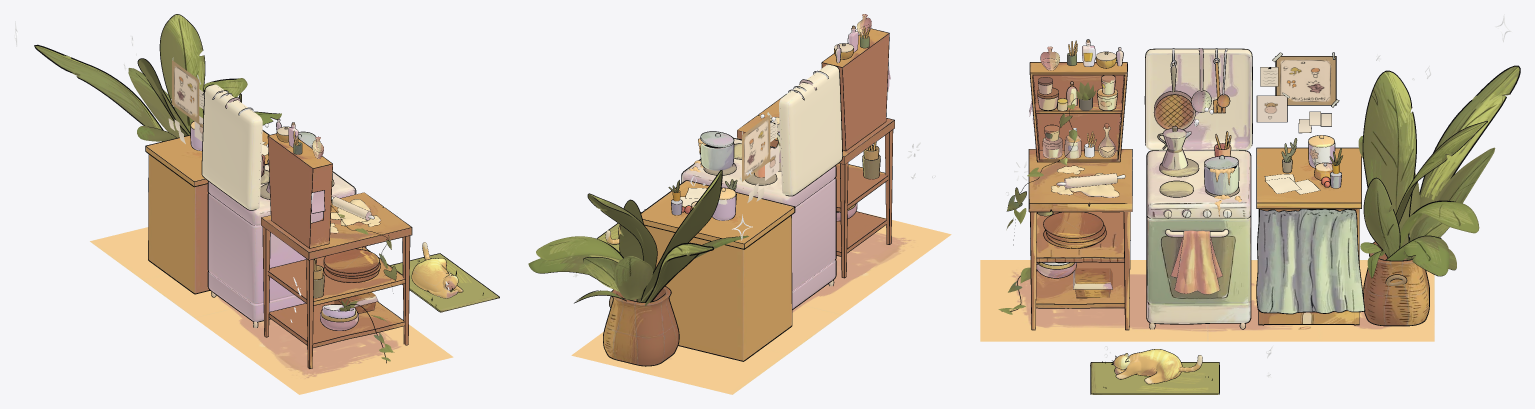
Rendered from room.glb.
The picture shows the model from 3 angles, left to right: view 1: azimuth 30°, elevation 25°; view 2: azimuth 150°, elevation 25°; view 3: azimuth 270°, elevation 25°; orthographic projection. The views are drawn at different scales.
Visible parts, largest first — view 1: Plane.002_212, Cube.064_8, Cube.063_7, Cube.067_10, Cube.076_11, Cube.073_39, Cube.065_9, Plane.006_167, Plane.005_166, Cube.004_17, Cube.077_15, Cube.079_22 (+10 smaller); view 2: Cube.064_8, Plane.002_212, Cube.063_7, Cube.076_11, Cube.078_12, Cube.073_39, Cube.067_10, Plane.004_165, Plane.007_168, Plane.006_167, Cube.079_22, Plane.014_175 (+14 smaller); view 3: Plane.002_212, Cube.063_7, Cube.112_14, Cube.076_11, Cube.064_8, Cube.067_10, Plane.004_165, Cube.073_39, Cube.065_9, Cube.078_12, Plane.005_166, Cube.077_15 (+24 smaller).
Boxes of the visible parts, <box> form: Plane.002_212: <box>90,227,453,394</box>; Cube.064_8: <box>145,130,269,294</box>; Cube.063_7: <box>208,164,355,321</box>; Cube.067_10: <box>263,227,409,368</box>; Cube.076_11: <box>201,84,262,210</box>; Cube.073_39: <box>268,134,332,247</box>; Cube.065_9: <box>261,192,411,259</box>; Plane.006_167: <box>159,14,205,132</box>; Plane.005_166: <box>34,44,163,141</box>; Cube.004_17: <box>262,227,410,368</box>; Cube.077_15: <box>390,254,498,312</box>; Cube.079_22: <box>172,60,199,123</box>; Cube.064_8: <box>641,180,795,361</box>; Plane.002_212: <box>571,211,951,394</box>; Cube.063_7: <box>682,138,835,308</box>; Cube.076_11: <box>779,64,842,196</box>; Cube.078_12: <box>603,286,679,366</box>; Cube.073_39: <box>822,29,889,150</box>; Cube.067_10: <box>836,130,892,277</box>; Plane.004_165: <box>640,170,722,302</box>; Plane.007_168: <box>536,236,623,260</box>; Plane.006_167: <box>587,193,657,271</box>; Cube.079_22: <box>742,115,770,181</box>; Plane.014_175: <box>613,256,652,299</box>; Plane.002_212: <box>980,260,1434,341</box>; Cube.063_7: <box>1147,151,1250,323</box>; Cube.112_14: <box>1256,209,1365,314</box>; Cube.076_11: <box>1144,48,1252,150</box>; Cube.064_8: <box>1256,147,1361,325</box>; Cube.067_10: <box>1030,212,1130,329</box>; Plane.004_165: <box>1362,70,1416,246</box>; Cube.073_39: <box>1030,62,1126,161</box>; Cube.065_9: <box>1029,149,1132,211</box>; Cube.078_12: <box>1363,241,1429,326</box>; Plane.005_166: <box>1409,65,1520,257</box>; Cube.077_15: <box>1090,362,1218,394</box>.
Size of the model in its own units: 4.97 by 3.6 by 7.18.
10 materials, 6 textured.
